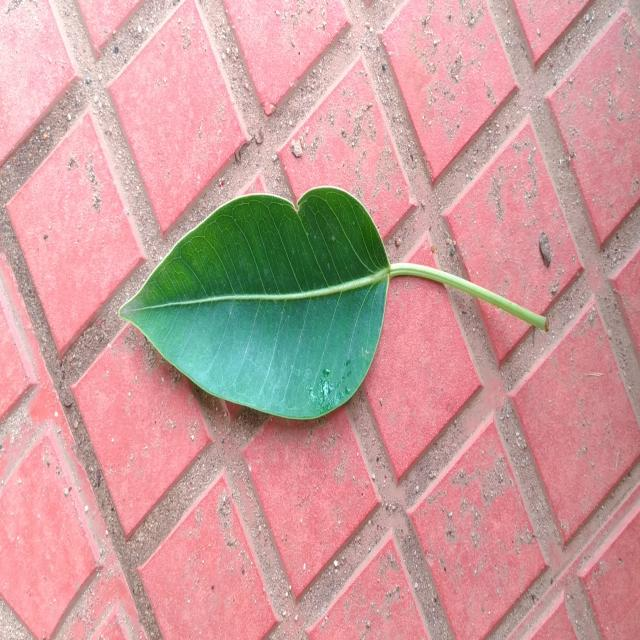camphor: (120, 187, 390, 420)
